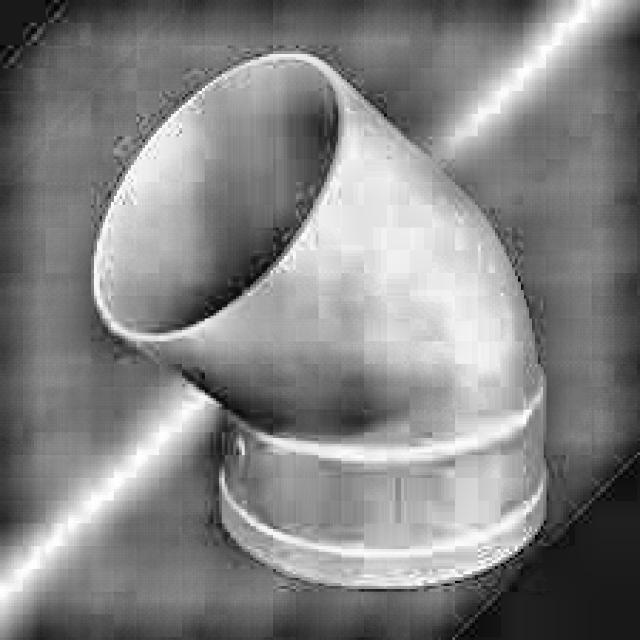ELBOW45: (94, 51, 549, 594)
